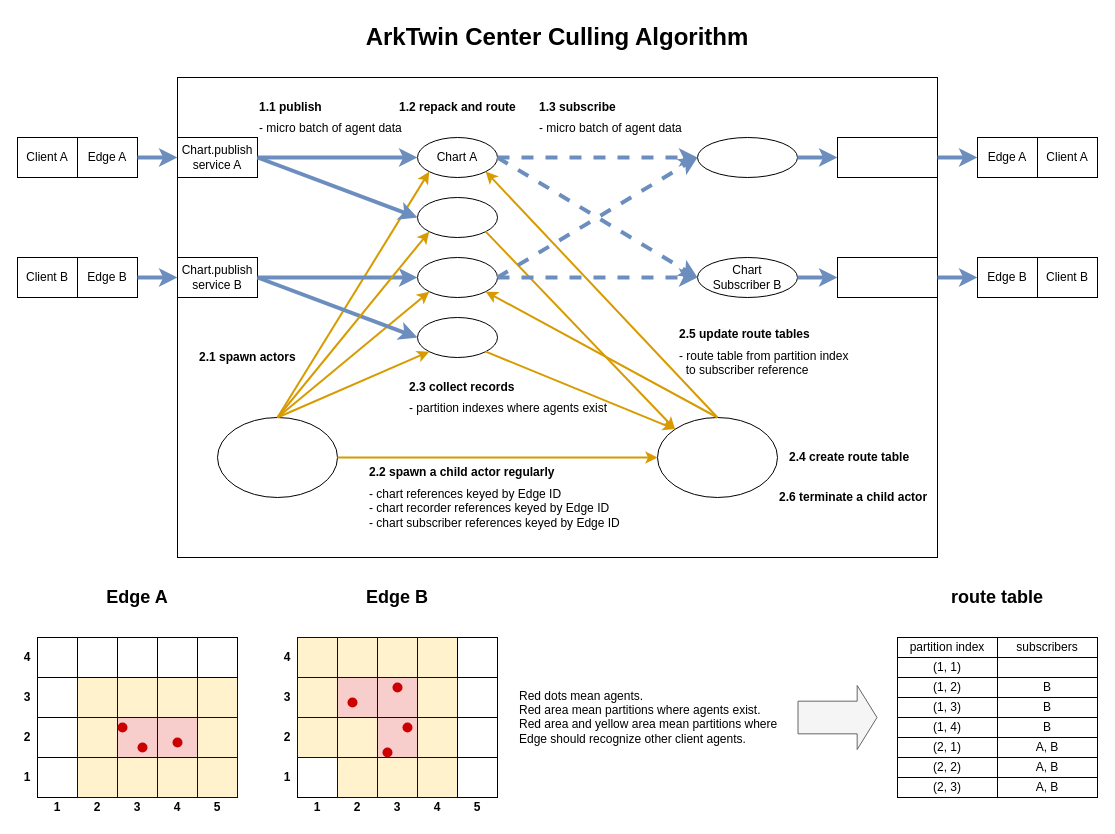
This 1115x834 diagram has some shape labels left out. The centre of each missing label's shape, as x and y in pixels:
Atlas: the point at 277,457
Atlas. updateRouteTable: the point at 717,457
Chart B: the point at 457,277
Chart Recorder A: the point at 457,217
Chart Recorder B: the point at 457,337
Chart Subscriber A: the point at 747,157
Chart.subscribe service A: the point at 887,157
Chart.subscribe service B: the point at 887,277
